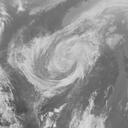cyclone: (20, 34, 91, 91)
